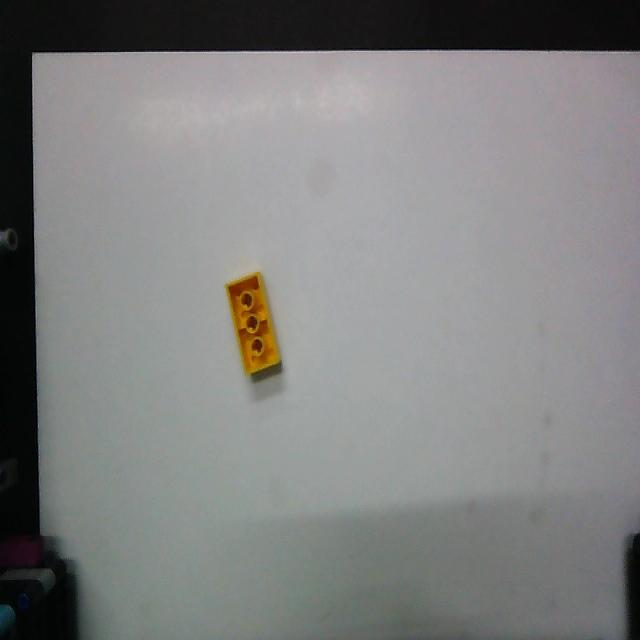lego_brick: (227, 272, 279, 373)
